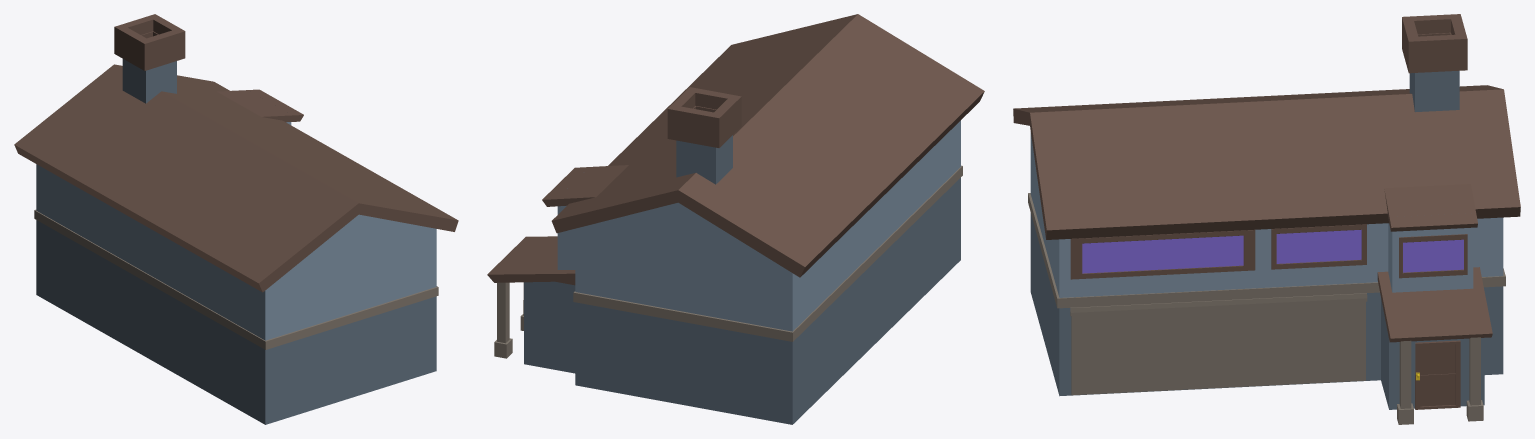
File: CALLE9_CASA2_042.fbx
3 renders of one model, left to right at view 1: azimuth 30°, elevation 25°; view 2: azimuth 150°, elevation 25°; view 3: azimuth 270°, elevation 25°, orthographic. The views are drawn at different scales.
Visible parts, largest first — view 1: CASA2.042; view 2: CASA2.042; view 3: CASA2.042.
Part boxes in pixels (box(x1,y1,x2,y2)): CASA2.042: box(14, 14, 458, 424); CASA2.042: box(487, 14, 984, 424); CASA2.042: box(1013, 14, 1520, 424).
Bounding box in the file's own units: 820 × 680 × 1054.
